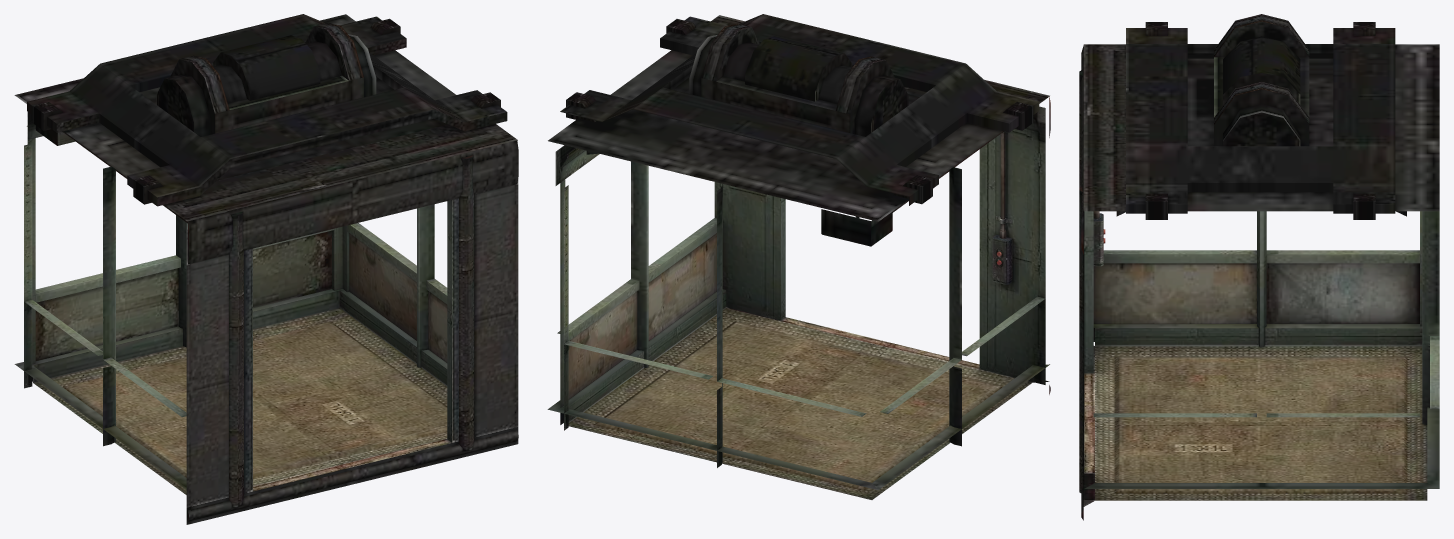
File: freightelevator.glb
3 views of the same model, side by side, from view 1: azimuth 30°, elevation 25°; view 2: azimuth 150°, elevation 25°; view 3: azimuth 270°, elevation 25° (orthographic). The views are drawn at different scales.
Visible parts, largest first — view 1: 0_freightelevator_sheet; view 2: 0_freightelevator_sheet; view 3: 0_freightelevator_sheet.
Part boxes in pixels (x1=…): 0_freightelevator_sheet: x1=14, y1=14, x2=518, y2=524; 0_freightelevator_sheet: x1=547, y1=14, x2=1050, y2=499; 0_freightelevator_sheet: x1=1079, y1=14, x2=1439, y2=520.
Bounding box in the file's own units: 4.37 × 4.42 × 3.7.
Materials: 1 (1 with a texture image).
